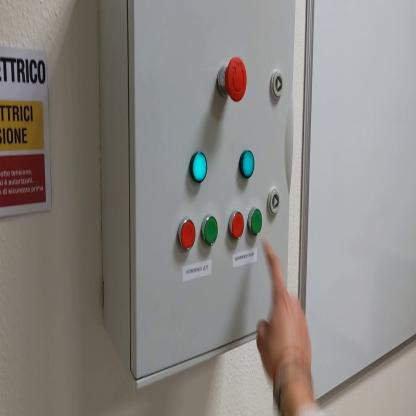hand: (255, 241, 315, 390)
left green button: (203, 217, 220, 247)
left red button: (228, 210, 245, 241), (180, 221, 196, 253)
right green button: (248, 210, 263, 239)
